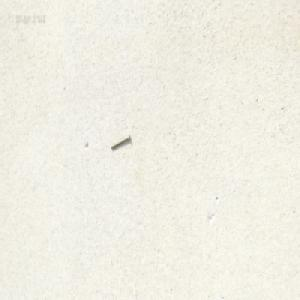Bolt: (110, 133, 130, 149)
